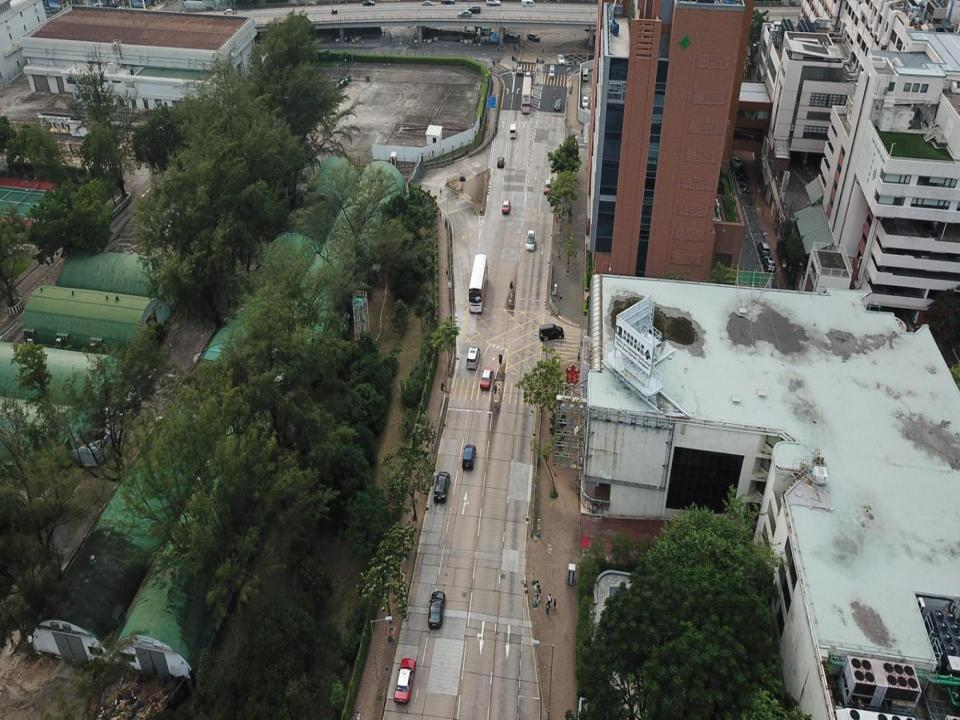bus: (468, 253, 488, 314), (521, 76, 532, 113)
car: (394, 658, 417, 703), (429, 590, 445, 630), (538, 323, 564, 342), (462, 444, 477, 470), (466, 346, 480, 369), (479, 368, 494, 388), (525, 230, 536, 252), (758, 240, 770, 260), (764, 254, 775, 271), (525, 31, 541, 42), (731, 155, 743, 169), (467, 5, 481, 14), (544, 178, 550, 198), (502, 200, 510, 214), (458, 10, 472, 18), (420, 0, 435, 7), (553, 97, 561, 110), (738, 167, 745, 179), (498, 157, 505, 168), (582, 95, 588, 107), (486, 0, 500, 5), (441, 0, 454, 5), (363, 0, 376, 5), (558, 53, 564, 63), (525, 70, 531, 80), (517, 64, 523, 73)
van: (434, 472, 451, 503), (510, 123, 517, 137), (521, 0, 535, 7), (548, 65, 555, 78), (582, 68, 588, 81)
